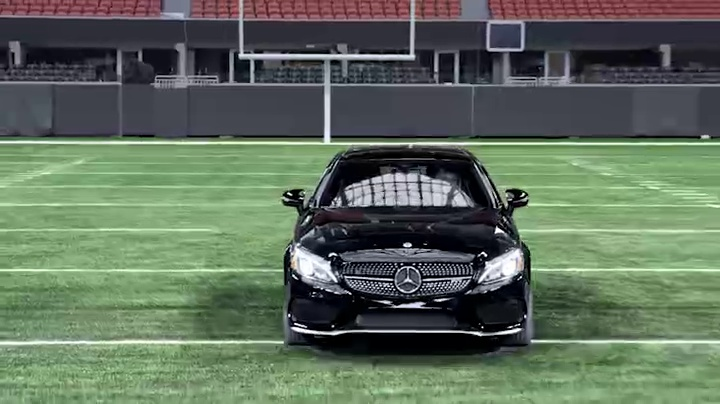amg: (270, 146, 539, 351)
